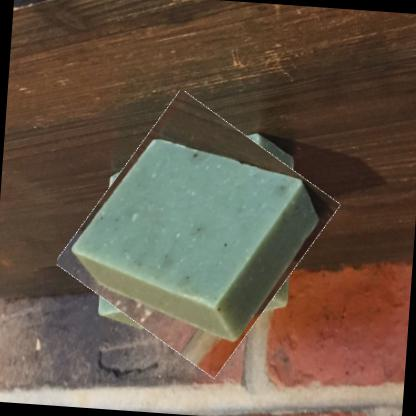soap: (70, 100, 325, 368)
